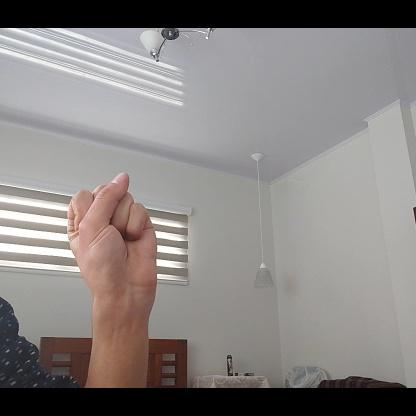S: (65, 170, 161, 305)
